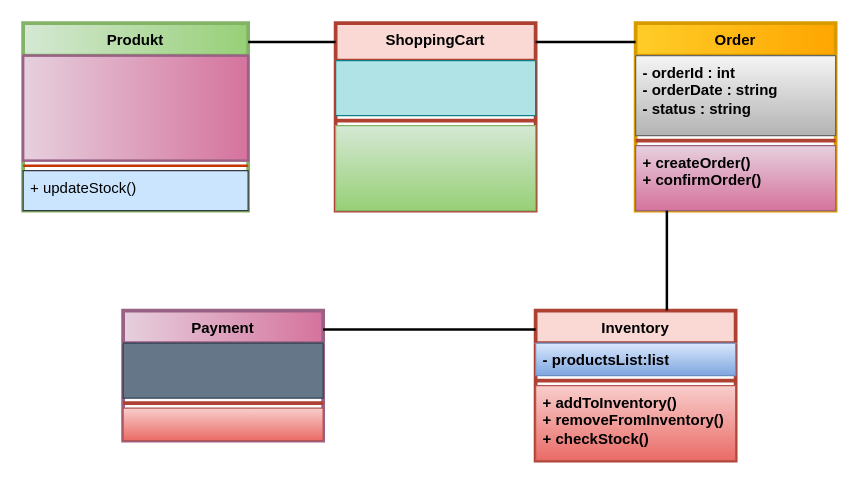
The diagram is 859 pixels wide and 486 high, and some of its shapes have lost their labels. Here are the shapes that lost their labels. From the top down, the box of each, then its label:
(21, 54, 249, 161): - name : string - color : string - size : string - price : float - stock : int
(334, 59, 536, 116): - products : list - totalPrice : float
(334, 124, 536, 211): + addProduct() + removeProduct() + calculateTotal()
(122, 342, 323, 398): - paymentType:string - amount : float
(122, 407, 323, 441): + processPayment()
